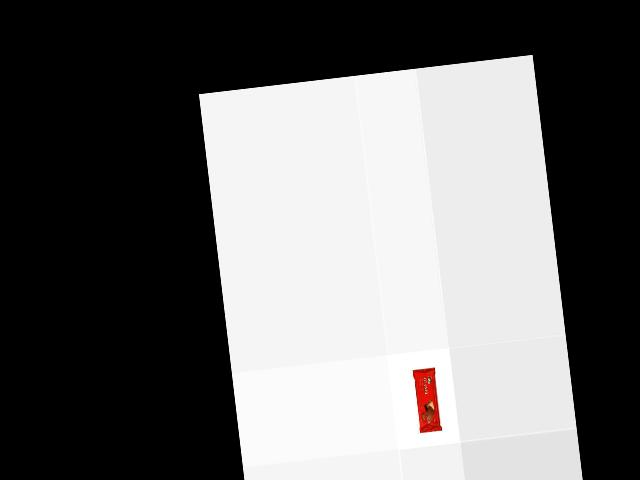chocolate: (411, 365, 442, 432)
